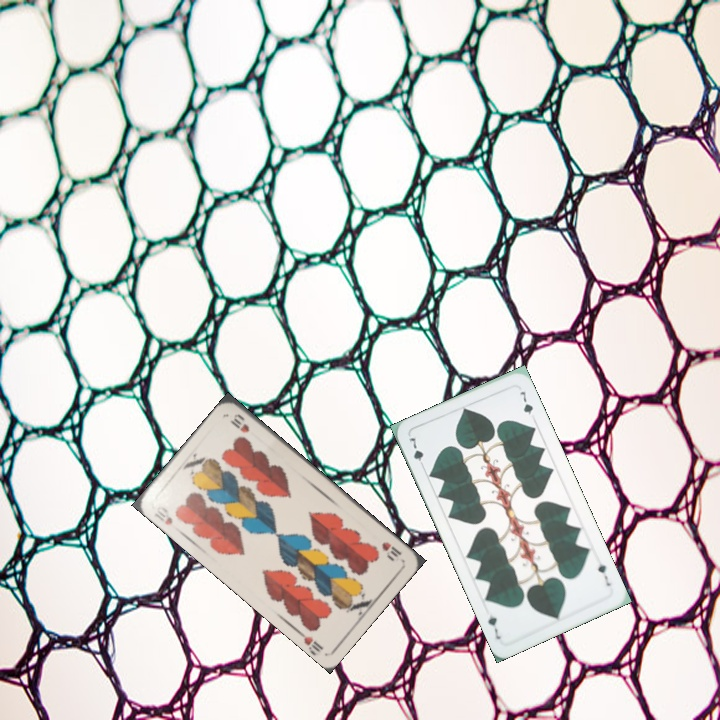G7: (405, 433, 428, 471), (593, 559, 613, 589)
H10: (150, 502, 175, 528), (377, 538, 404, 562)
